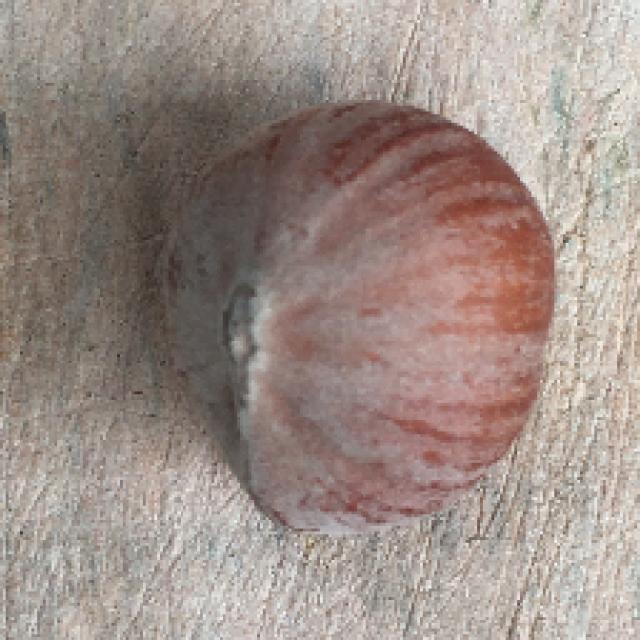qualityHazelnut: (158, 98, 560, 542)
